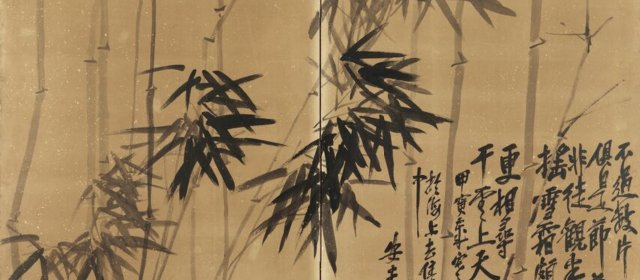bamboo: (23, 3, 428, 280), (429, 1, 639, 139)
